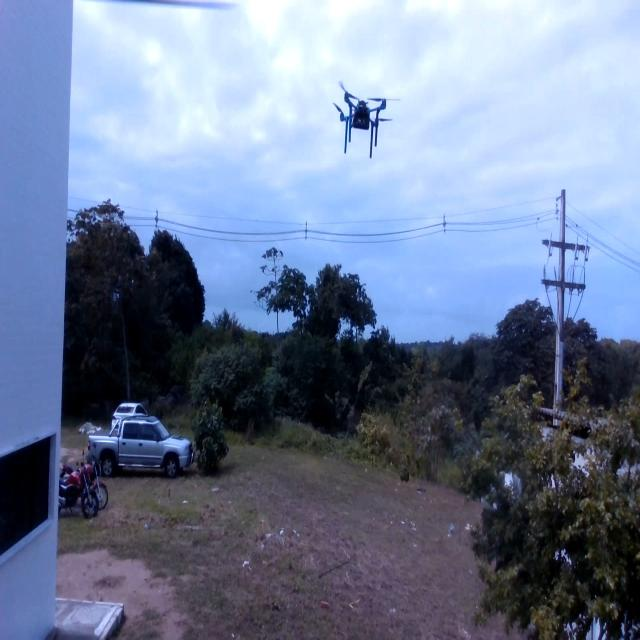-uav-: (328, 68, 400, 168)
